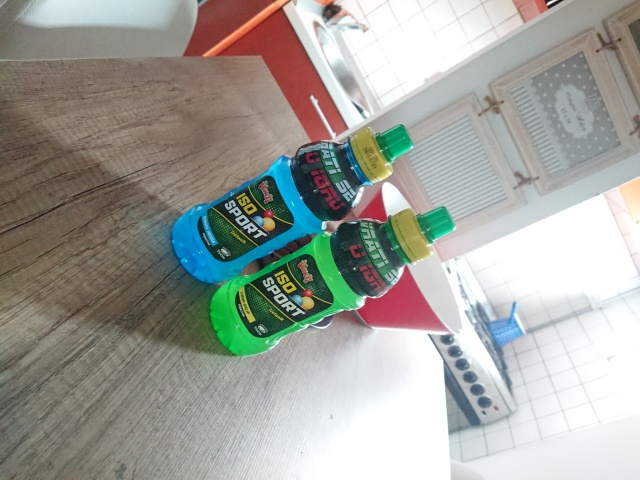Vindi Iso Sport Forest Strawberries 500mL: (167, 120, 416, 287)
Vindi Iso Sport Lemon-Grapefruit 500mL: (207, 203, 460, 358)
